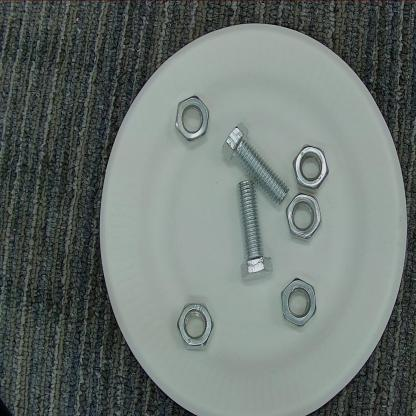FOD: (220, 122, 292, 203), (234, 181, 274, 285), (176, 300, 220, 353), (276, 279, 319, 330), (172, 92, 212, 144), (284, 193, 324, 240), (296, 143, 328, 190)
